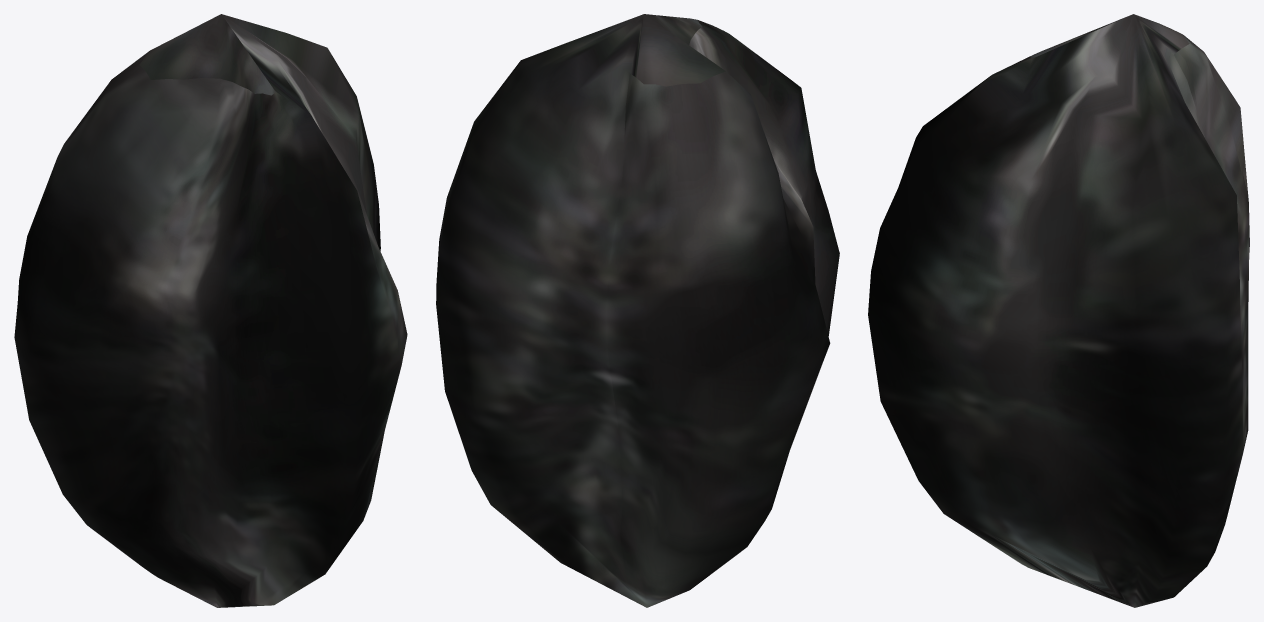
Rendered from Leek_seed.fbx.
3 renders of one model, left to right at view 1: azimuth 30°, elevation 25°; view 2: azimuth 150°, elevation 25°; view 3: azimuth 270°, elevation 25°, orthographic.
Parts seen in each view (by area): view 1: pSphere5; view 2: pSphere5; view 3: pSphere5.
Boxes of the visible parts, x1=… form: pSphere5: x1=14, y1=14, x2=407, y2=607; pSphere5: x1=436, y1=14, x2=839, y2=607; pSphere5: x1=868, y1=14, x2=1249, y2=607.
Size of the model in its own units: 2.48 by 3.81 by 2.21.
